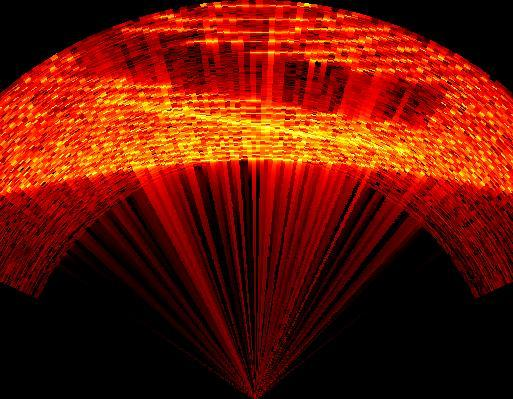pipe: (60, 29, 445, 128)
